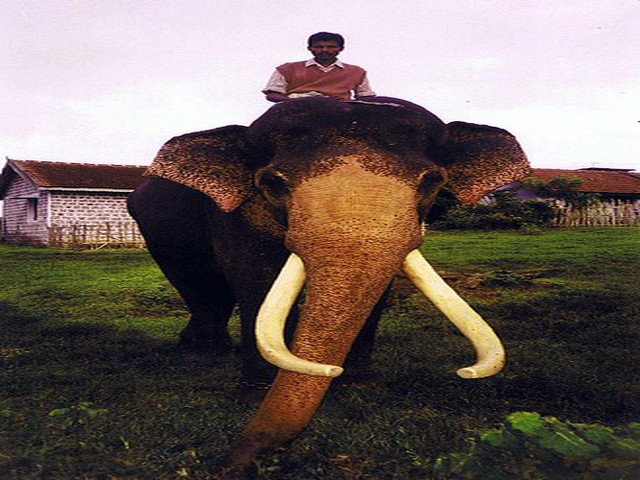Elephant: (121, 102, 534, 444)
Person: (264, 21, 378, 102)
